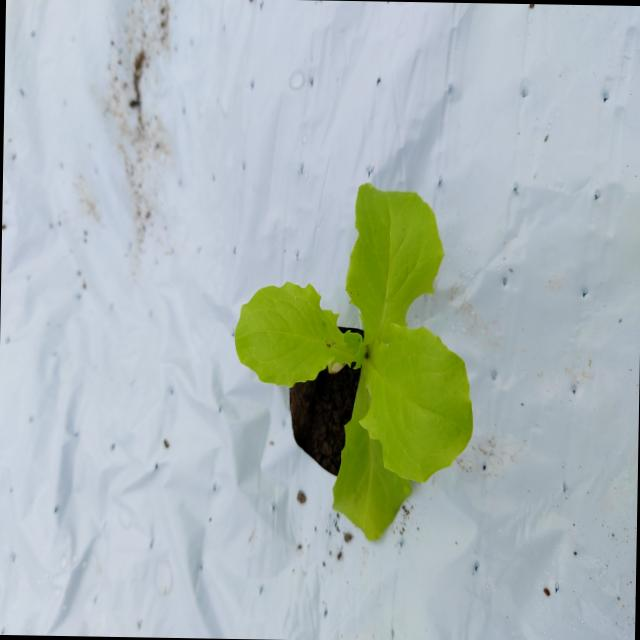Lettuce-Not-Ready-to-Harvest: (232, 177, 480, 534)
